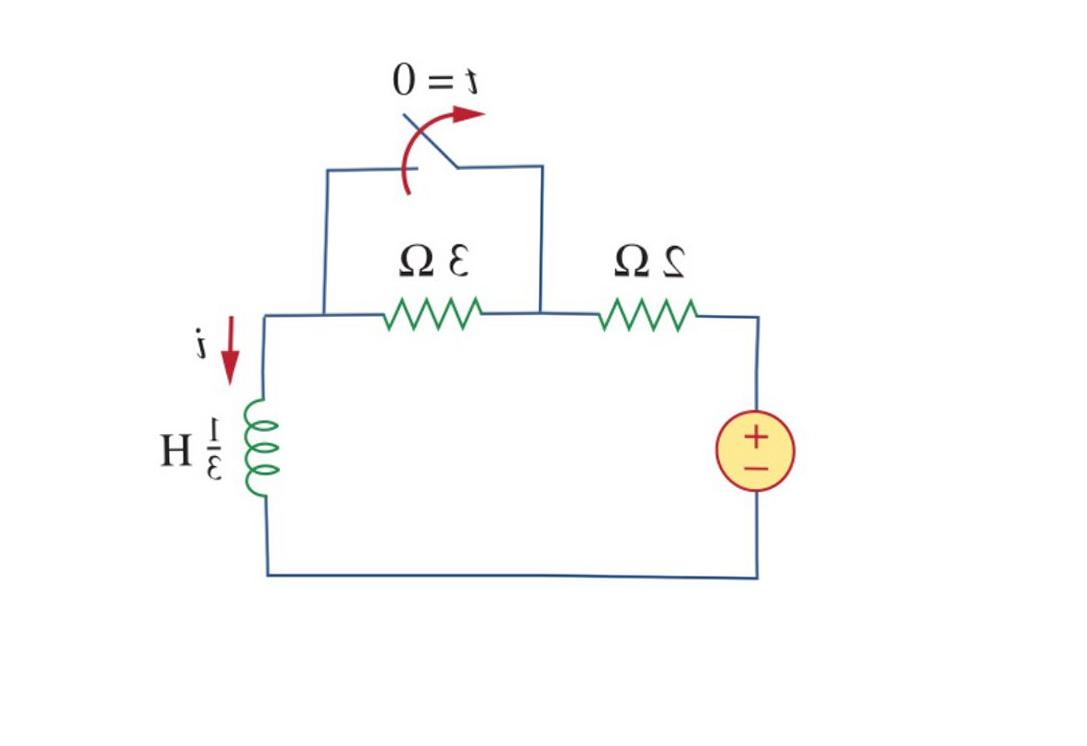Battery: (698, 382, 814, 520)
